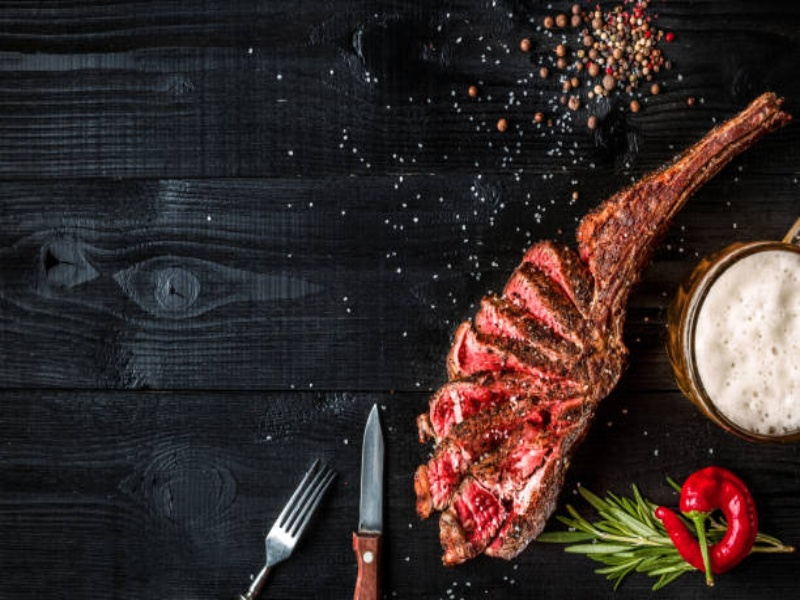buffalo: (107, 134, 409, 387)
